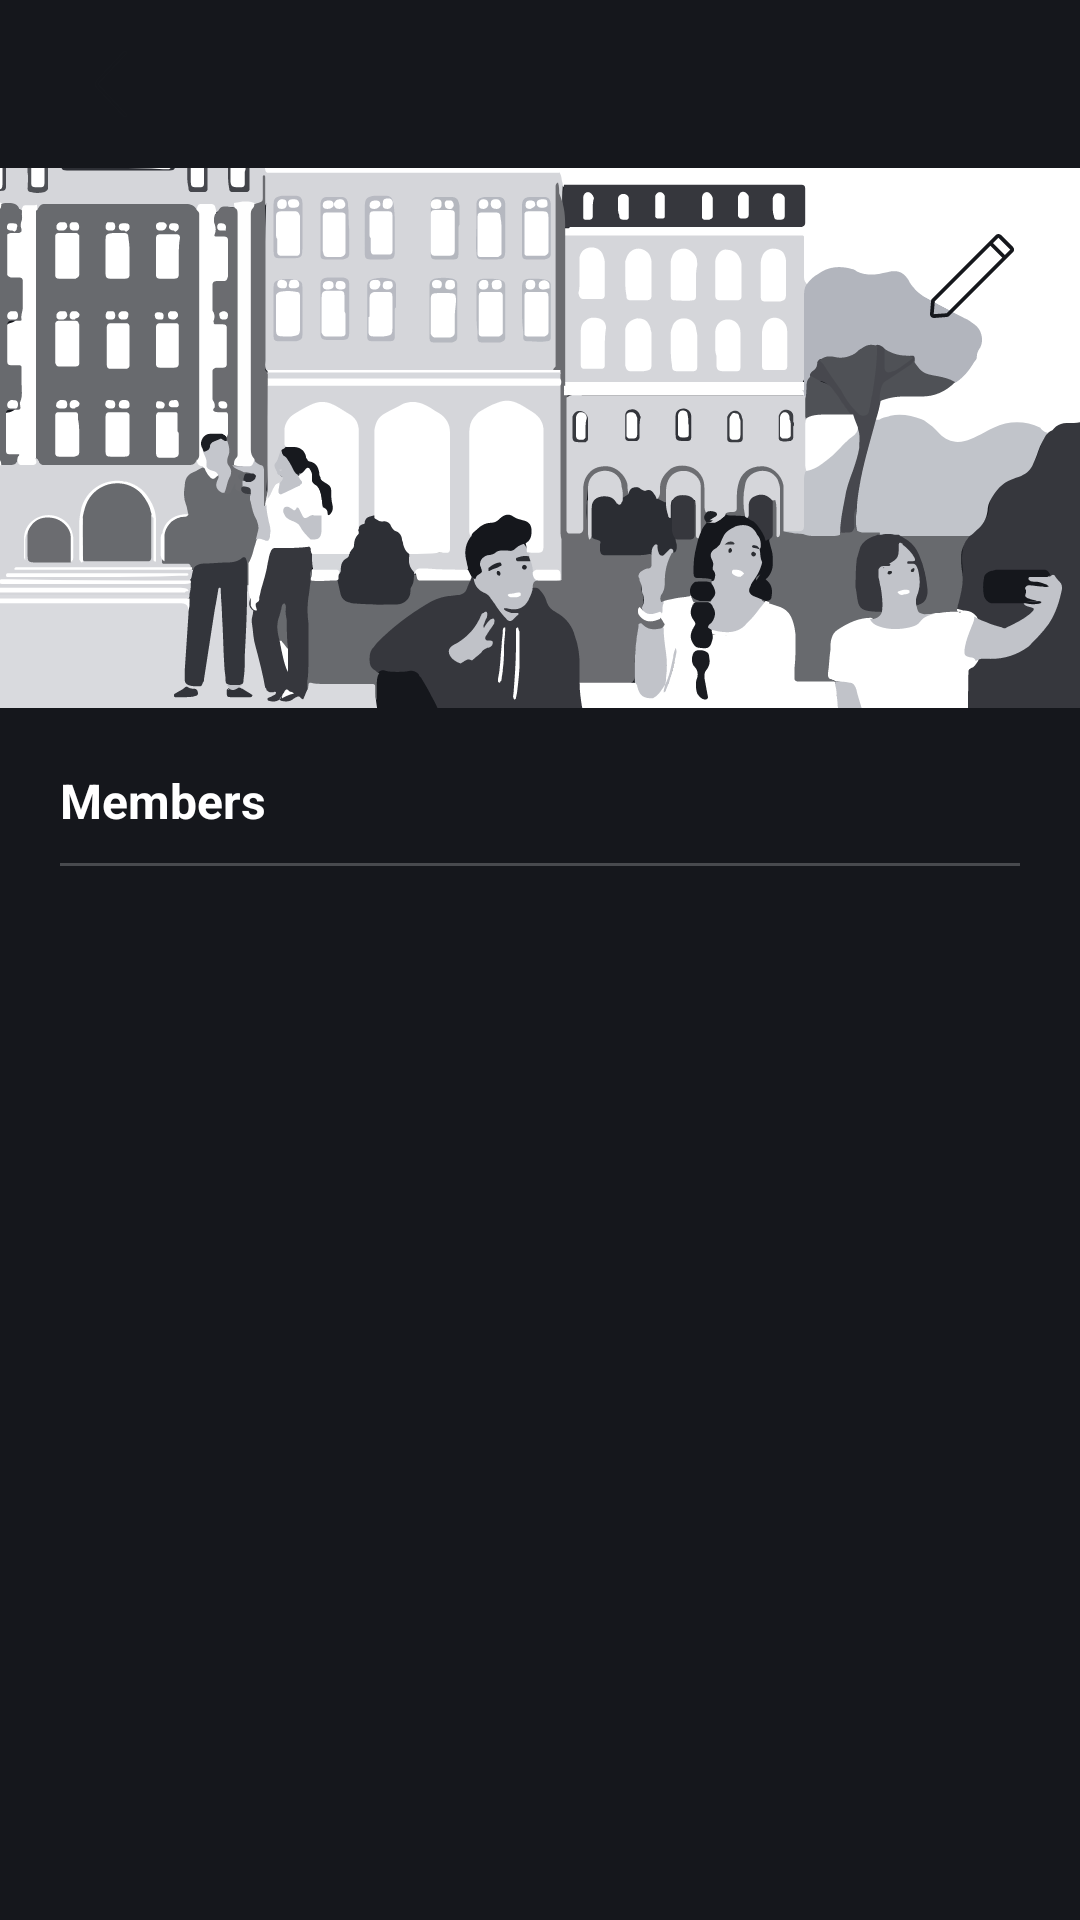

Where to tap for icons on this 1080*1920 app screen, as (x=x, y=y):
edit: (x=957, y=291)
